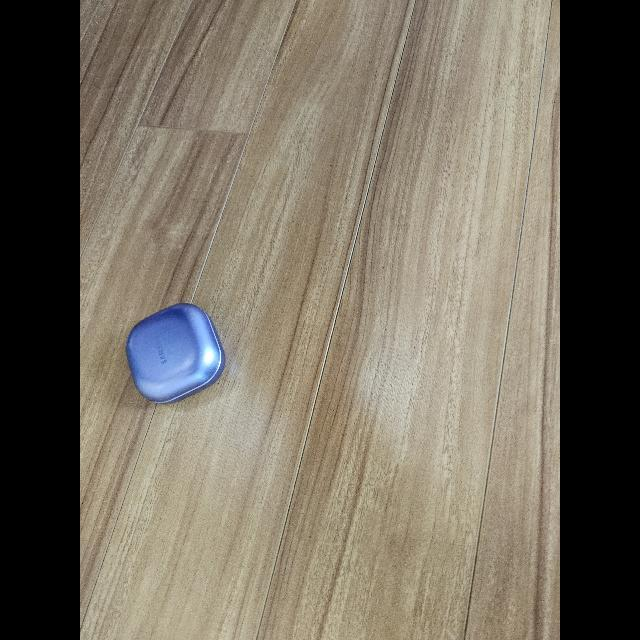buds-pro: (125, 300, 228, 408)
